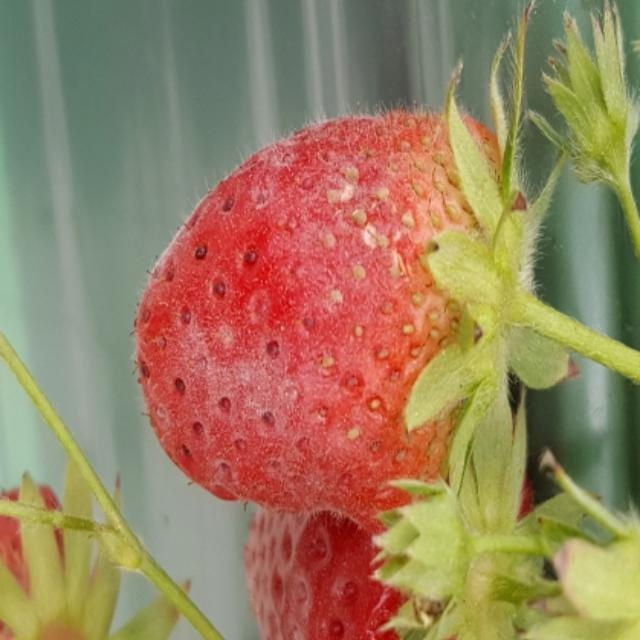Powdery Mildew Fruit: (135, 110, 527, 543)
